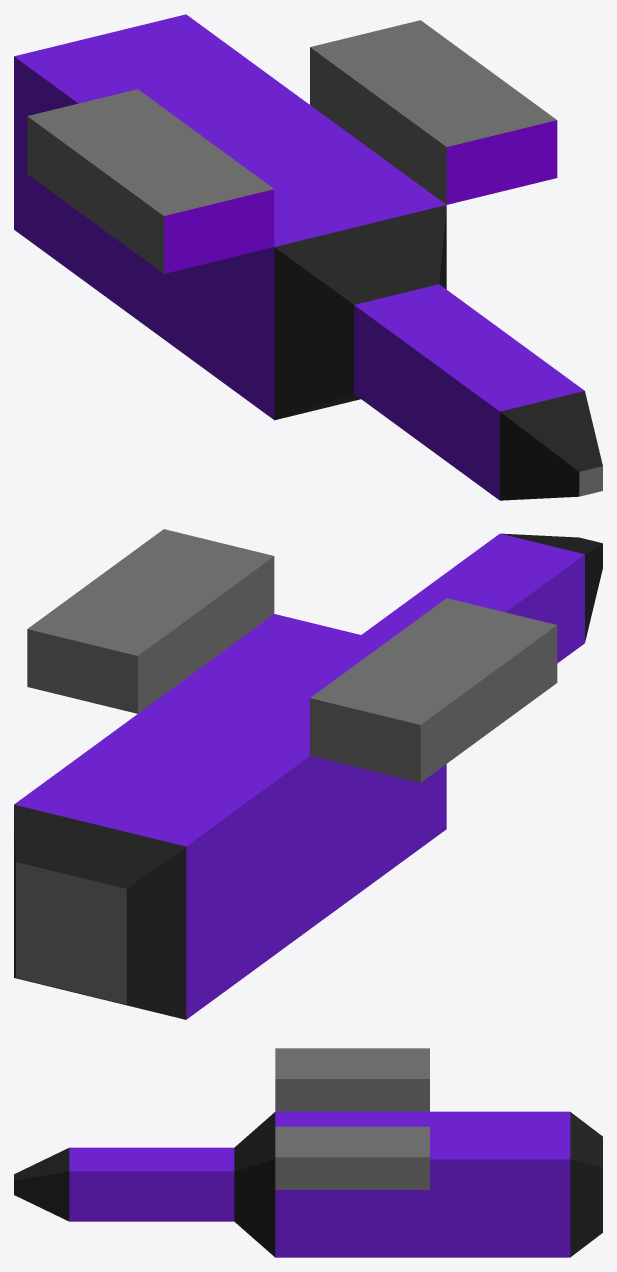
Rendered from BasicGun.glb.
The picture shows the model from 3 angles, top to bottom: view 1: azimuth 30°, elevation 25°; view 2: azimuth 150°, elevation 25°; view 3: azimuth 270°, elevation 25°; orthographic projection. The views are drawn at different scales.
Visible parts, largest first — view 1: Cube; view 2: Cube; view 3: Cube.
Boxes of the visible parts, box(x1,y1,x2,y2) form: Cube: box(14, 14, 602, 500); Cube: box(14, 529, 602, 1019); Cube: box(14, 1048, 602, 1257).
Bounding box in the file's own units: 7.11 × 4 × 16.29.
